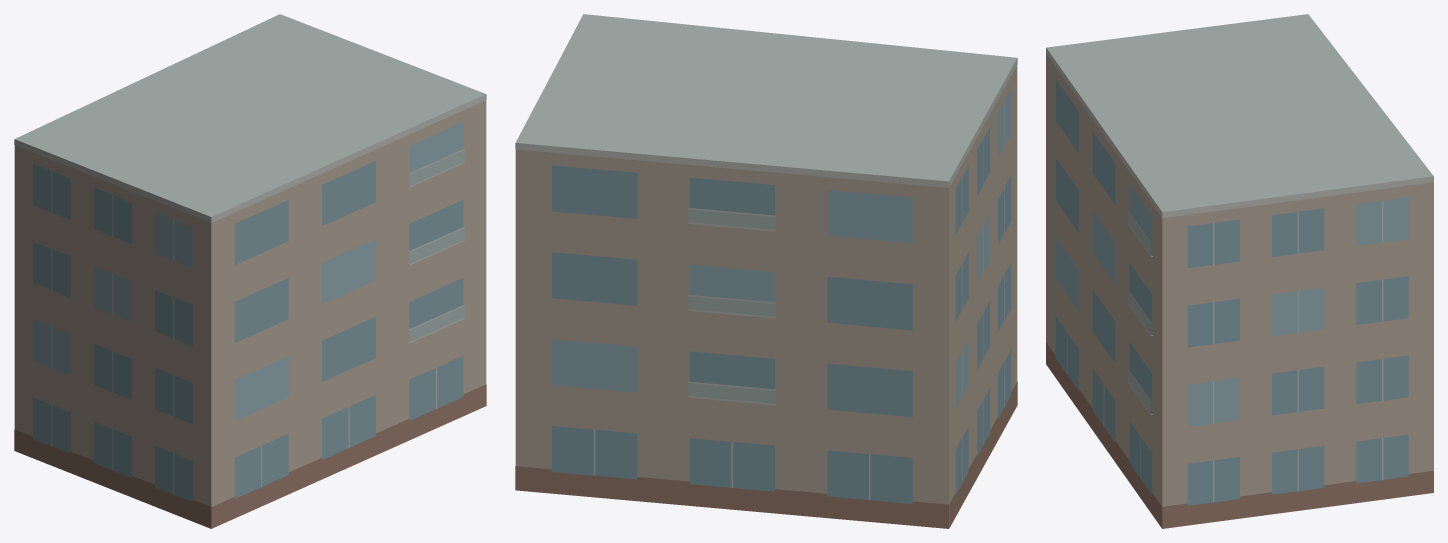
File: survey-upis-32655193.glb
3 views of the same model, side by side, from view 1: azimuth 30°, elevation 25°; view 2: azimuth 150°, elevation 25°; view 3: azimuth 270°, elevation 25° (orthographic). The views are drawn at different scales.
Parts seen in each view (by area): view 1: survey-upis-32655193.tmp; view 2: survey-upis-32655193.tmp; view 3: survey-upis-32655193.tmp.
Part boxes in pixels (x1,y1,x2,y2): survey-upis-32655193.tmp: (14,14,486,528); survey-upis-32655193.tmp: (515,14,1017,528); survey-upis-32655193.tmp: (1046,14,1433,528).
Size of the model in its own units: 17.2 by 12.8 by 14.21.
